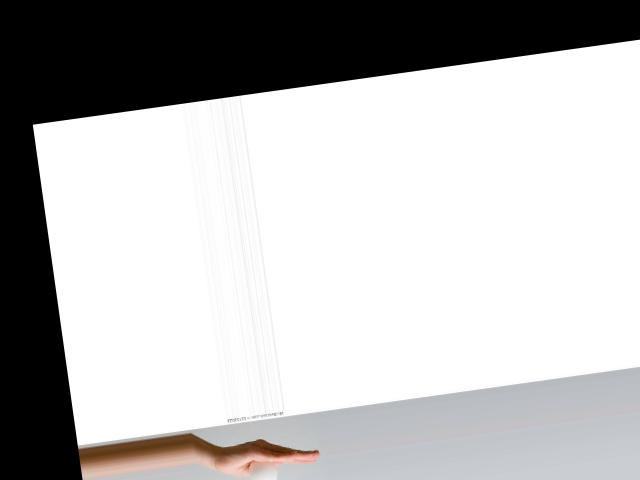egg: (248, 457, 279, 480)
